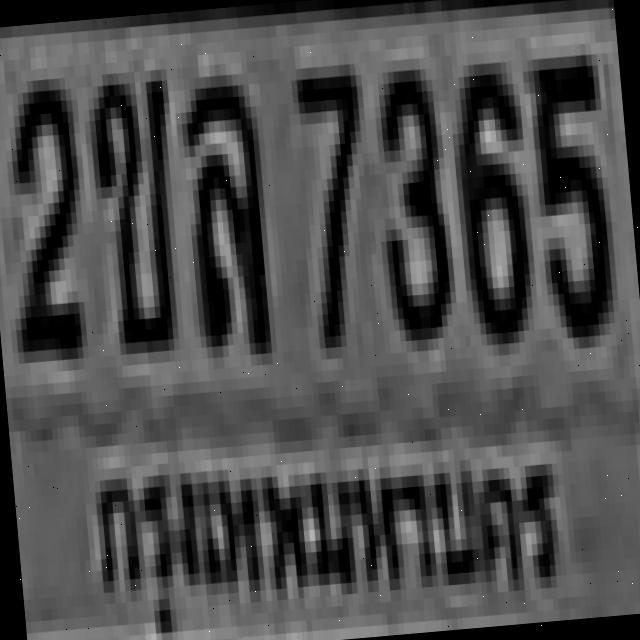11KhorKhai: (79, 58, 184, 344)
2: (0, 66, 87, 352)
3: (366, 57, 448, 331)
45LorLing: (173, 56, 273, 342)
5: (526, 43, 616, 340)
6: (448, 49, 531, 334)
7: (289, 52, 372, 338)
Bangkok: (65, 405, 581, 640)
